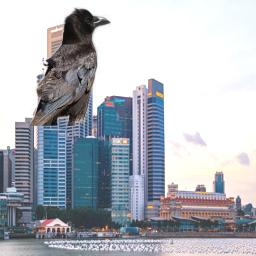Crow: (29, 7, 111, 126)
